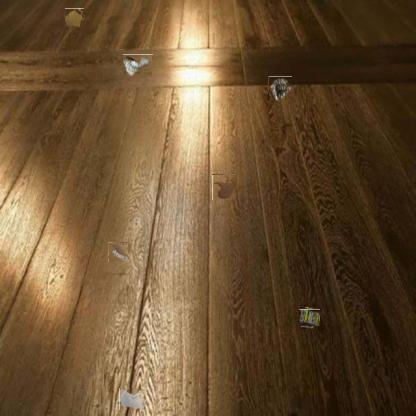dirty: (124, 54, 154, 77), (268, 76, 292, 101), (119, 388, 144, 410), (108, 242, 128, 262), (300, 308, 319, 328)
liquid: (212, 174, 235, 200), (64, 8, 84, 27)
